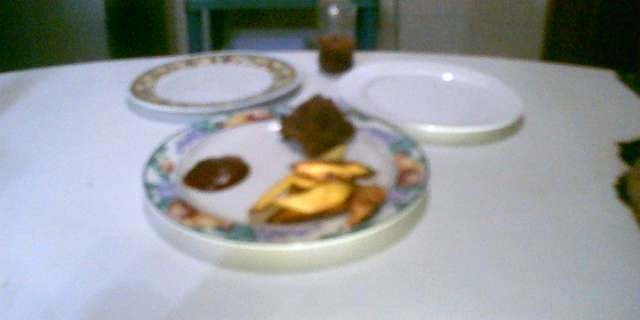chicken: (277, 92, 362, 158)
empty_plate: (329, 53, 532, 144), (123, 40, 304, 123)
ketchup_bottle: (312, 1, 358, 81)
ketchup_portion: (182, 148, 252, 194)
potatoe_fries: (252, 145, 390, 236)
